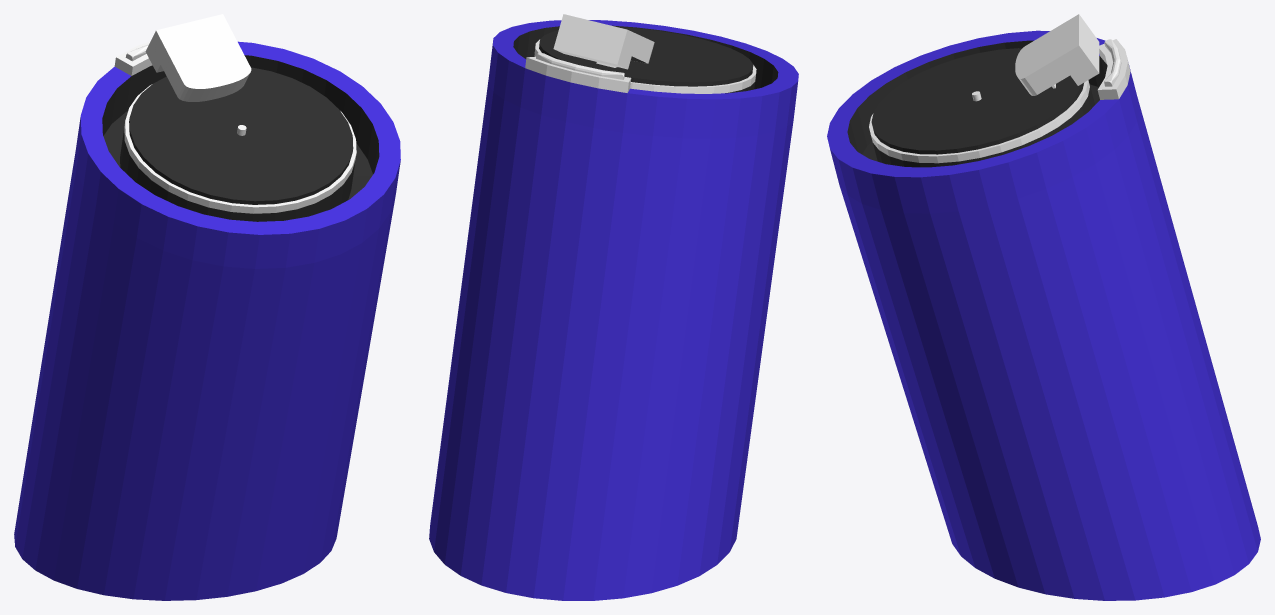
Rendered from Cutting Machine.fbx.
3 views of the same model, side by side, from view 1: azimuth 30°, elevation 25°; view 2: azimuth 150°, elevation 25°; view 3: azimuth 270°, elevation 25° (orthographic). The views are drawn at different scales.
Parts seen in each view (by area): view 1: Record Cutter Base, Record Cutter Knife Holder, Record Cutter Hinge; view 2: Record Cutter Base, Record Cutter Knife Holder, Record Cutter Hinge; view 3: Record Cutter Base, Record Cutter Knife Holder, Record Cutter Hinge.
Part boxes in pixels (x1,y1,x2,y2): Record Cutter Base: (14,41,400,600); Record Cutter Knife Holder: (145,14,251,101); Record Cutter Hinge: (114,41,152,75); Record Cutter Base: (429,20,798,600); Record Cutter Knife Holder: (553,14,654,69); Record Cutter Hinge: (525,53,631,92); Record Cutter Base: (827,30,1260,600); Record Cutter Knife Holder: (1015,14,1099,95); Record Cutter Hinge: (1097,39,1130,99).
Size of the model in its own units: 135 by 243 by 187.
